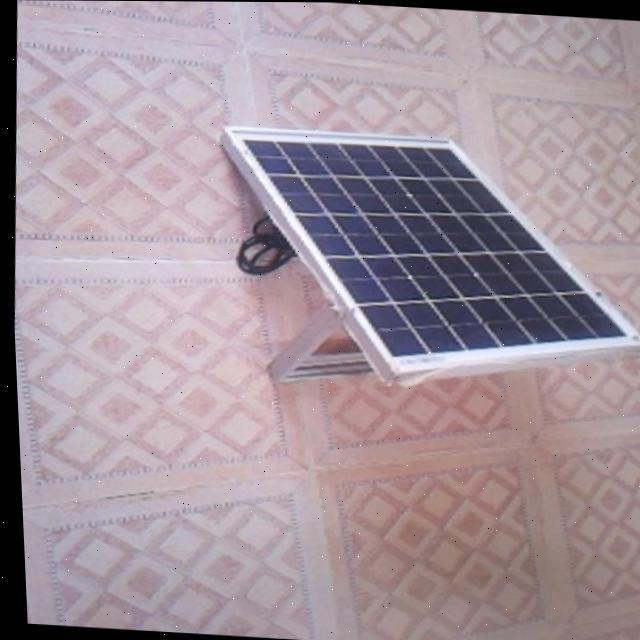Normal Solar Panel: (208, 125, 640, 399)
